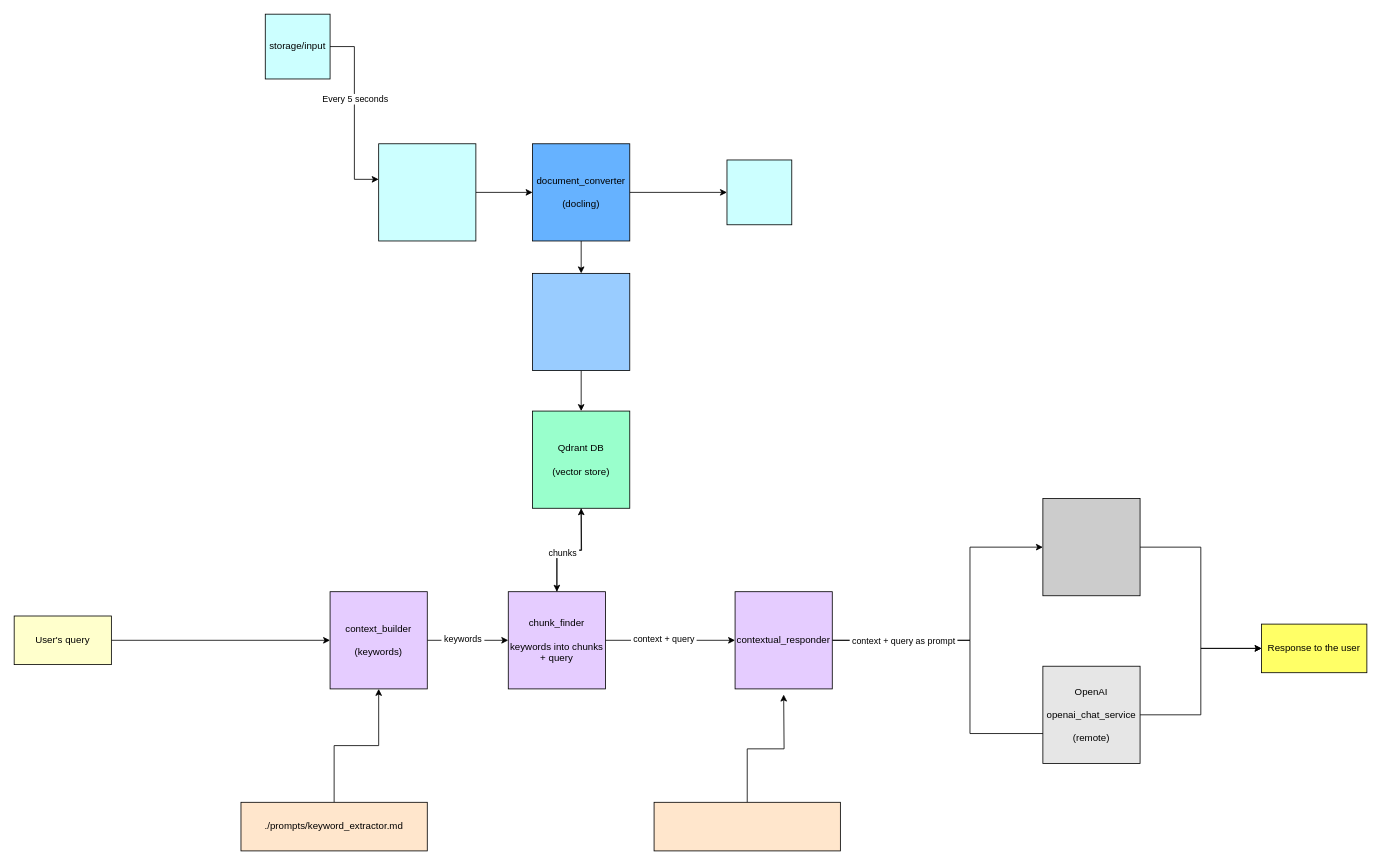
This 1381x865 diagram has some shape labels left out. Here are the shapes that lost their labels. From the top down, the centre of each, then its label:
At (427,192): "document_watcher".
At (759,192): "storage/output".
At (581,322): "document_feeder (langchain)".
At (1091,547): "Ollama chat_service (local)".
At (746,826): "./prompts/context_based_query.md".
